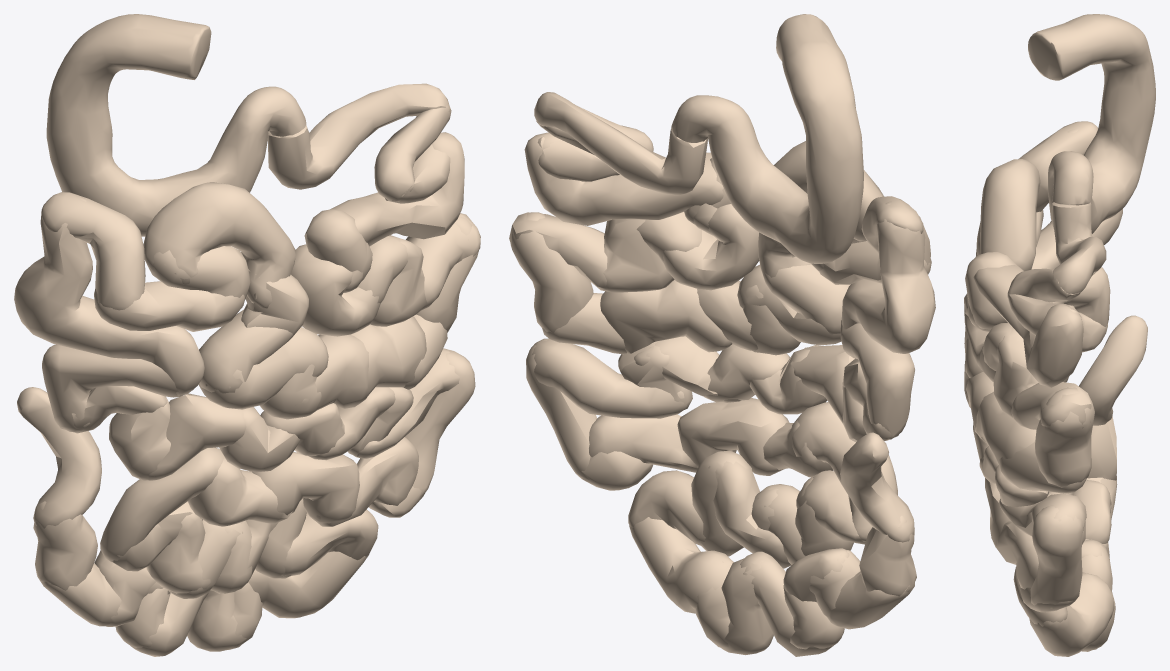
The model's file is small_intestine.glb.
3 views of the same model, side by side, from view 1: azimuth 30°, elevation 25°; view 2: azimuth 150°, elevation 25°; view 3: azimuth 270°, elevation 25° (orthographic). The views are drawn at different scales.
Visible parts, largest first — view 1: FJ2573_Duodenum, FJ2621_Distal_part_of_jejunum, FJ2616_Distal_part_of_jejunum, FJ2606_Proximal_part_of_jejunum, FJ2620_Distal_part_of_jejunum, FJ2574_Proximal_part_of_ileum, FJ2599_Ileocecal_junction, FJ2623_Proximal_part_of_jejunum, FJ2580_Middle_part_of_ileum, FJ2578_Middle_part_of_ileum, FJ2619_Distal_part_of_jejunum, FJ2626_Proximal_part_of_jejunum (+42 smaller); view 2: FJ2573_Duodenum, FJ2621_Distal_part_of_jejunum, FJ2623_Proximal_part_of_jejunum, FJ2606_Proximal_part_of_jejunum, FJ2605_Proximal_part_of_ileum, FJ2610_Middle_part_of_jejunum, FJ2578_Middle_part_of_ileum, FJ2589_Distal_part_of_ileum, FJ2626_Proximal_part_of_jejunum, FJ2608_Middle_part_of_jejunum, FJ2574_Proximal_part_of_ileum, FJ2599_Ileocecal_junction (+41 smaller); view 3: FJ2573_Duodenum, FJ2616_Distal_part_of_jejunum, FJ2623_Proximal_part_of_jejunum, FJ2575_Proximal_part_of_ileum, FJ2599_Ileocecal_junction, FJ2608_Middle_part_of_jejunum, FJ2589_Distal_part_of_ileum, FJ2606_Proximal_part_of_jejunum, FJ2607_Middle_part_of_jejunum, FJ2610_Middle_part_of_jejunum, FJ2620_Distal_part_of_jejunum, FJ2628_Middle_part_of_jejunum (+24 smaller).
Part boxes in pixels (box(x1,y1,x2,y2)): FJ2573_Duodenum: box(46, 14, 306, 236); FJ2621_Distal_part_of_jejunum: box(14, 195, 204, 396); FJ2616_Distal_part_of_jejunum: box(143, 182, 295, 308); FJ2606_Proximal_part_of_jejunum: box(267, 83, 450, 189); FJ2620_Distal_part_of_jejunum: box(41, 192, 145, 310); FJ2574_Proximal_part_of_ileum: box(42, 344, 193, 432); FJ2599_Ileocecal_junction: box(17, 387, 101, 528); FJ2623_Proximal_part_of_jejunum: box(330, 132, 464, 246); FJ2580_Middle_part_of_ileum: box(100, 447, 224, 562); FJ2578_Middle_part_of_ileum: box(252, 452, 359, 523); FJ2619_Distal_part_of_jejunum: box(94, 281, 244, 331); FJ2626_Proximal_part_of_jejunum: box(290, 244, 380, 336); FJ2573_Duodenum: box(671, 14, 863, 263); FJ2621_Distal_part_of_jejunum: box(841, 201, 935, 353); FJ2623_Proximal_part_of_jejunum: box(524, 132, 723, 225); FJ2606_Proximal_part_of_jejunum: box(534, 92, 708, 195); FJ2605_Proximal_part_of_ileum: box(532, 339, 686, 418); FJ2610_Middle_part_of_jejunum: box(600, 279, 732, 353); FJ2578_Middle_part_of_ileum: box(677, 398, 789, 475); FJ2589_Distal_part_of_ileum: box(629, 517, 733, 613); FJ2626_Proximal_part_of_jejunum: box(662, 204, 759, 290); FJ2608_Middle_part_of_jejunum: box(510, 212, 593, 333); FJ2574_Proximal_part_of_ileum: box(840, 320, 914, 439); FJ2599_Ileocecal_junction: box(840, 432, 914, 542); FJ2573_Duodenum: box(1028, 14, 1155, 233); FJ2616_Distal_part_of_jejunum: box(980, 159, 1040, 270); FJ2623_Proximal_part_of_jejunum: box(973, 265, 1083, 387); FJ2575_Proximal_part_of_ileum: box(1030, 505, 1082, 612); FJ2599_Ileocecal_junction: box(1079, 315, 1147, 425); FJ2608_Middle_part_of_jejunum: box(1035, 387, 1094, 487); FJ2589_Distal_part_of_ileum: box(1029, 572, 1114, 656); FJ2606_Proximal_part_of_jejunum: box(1052, 202, 1106, 295); FJ2607_Middle_part_of_jejunum: box(1011, 382, 1091, 429); FJ2610_Middle_part_of_jejunum: box(976, 391, 1036, 466); FJ2620_Distal_part_of_jejunum: box(1018, 121, 1098, 212); FJ2628_Middle_part_of_jejunum: box(993, 328, 1038, 420).
Bounding box in the file's own units: 0.1937 × 0.2718 × 0.0795.
